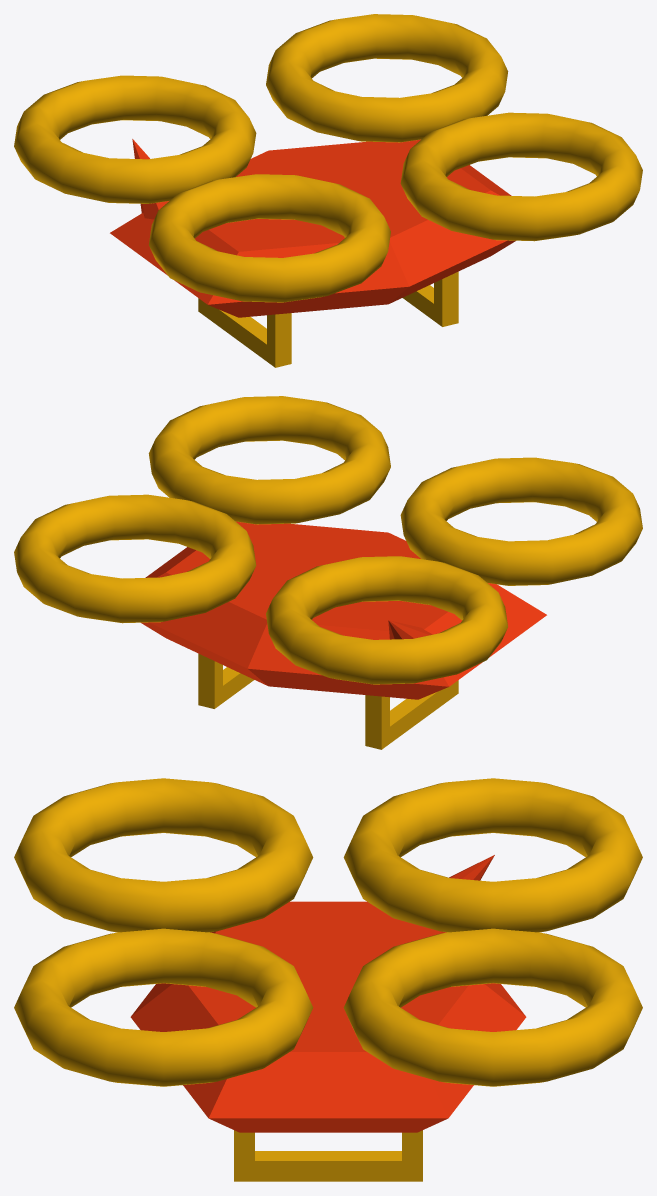
Rendered from drone.glb.
3 renders of one model, top to bottom at view 1: azimuth 30°, elevation 25°; view 2: azimuth 150°, elevation 25°; view 3: azimuth 270°, elevation 25°, orthographic. The views are drawn at different scales.
Visible parts, largest first — view 1: Drone; view 2: Drone; view 3: Drone.
Boxes of the visible parts, box(x1,y1,x2,y2) form: Drone: box(14, 14, 642, 367); Drone: box(14, 396, 642, 749); Drone: box(14, 778, 642, 1181).
Size of the model in its own units: 1.84 by 0.6873 by 1.77.
